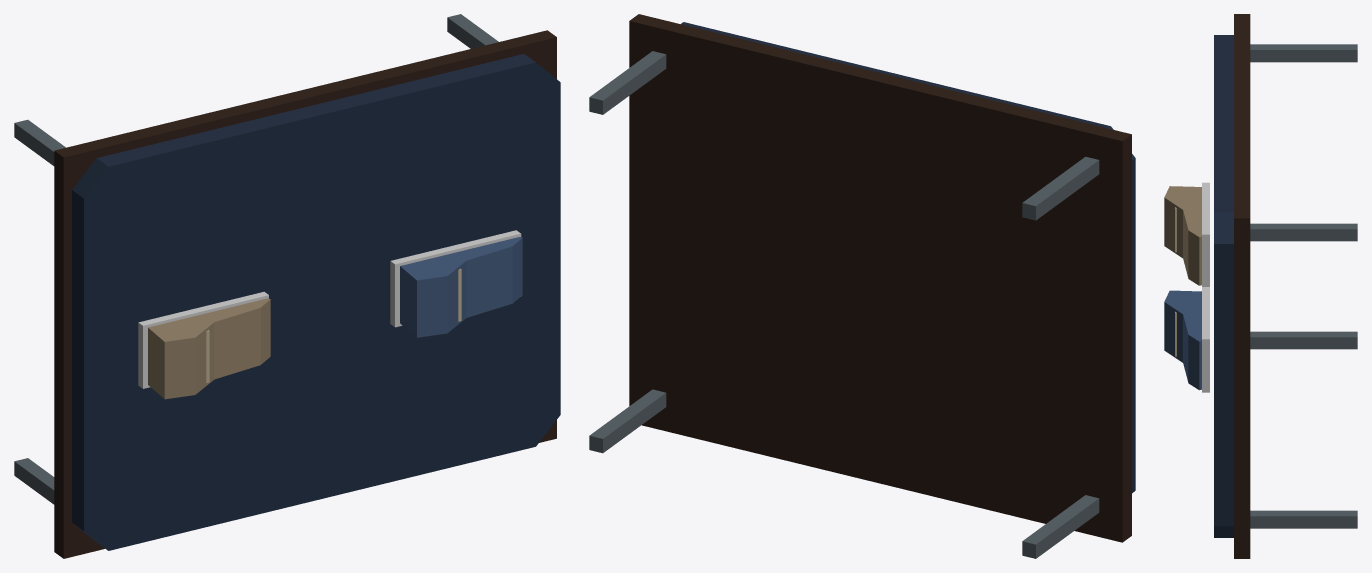
The model's file is SM_BSW_Department_ShoeBench_Short_B.obj.
The picture shows the model from 3 angles, left to right: view 1: azimuth 30°, elevation 25°; view 2: azimuth 150°, elevation 25°; view 3: azimuth 270°, elevation 25°; orthographic projection. The views are drawn at different scales.
Visible parts, largest first — view 1: SM_BSW_Department_ShoeBench_Short_B; view 2: SM_BSW_Department_ShoeBench_Short_B; view 3: SM_BSW_Department_ShoeBench_Short_B.
Part boxes in pixels (box(x1,y1,x2,y2)): SM_BSW_Department_ShoeBench_Short_B: box(14, 14, 560, 558); SM_BSW_Department_ShoeBench_Short_B: box(589, 14, 1135, 558); SM_BSW_Department_ShoeBench_Short_B: box(1164, 14, 1357, 558).
Bounding box in the file's own units: 180 × 140 × 72.
